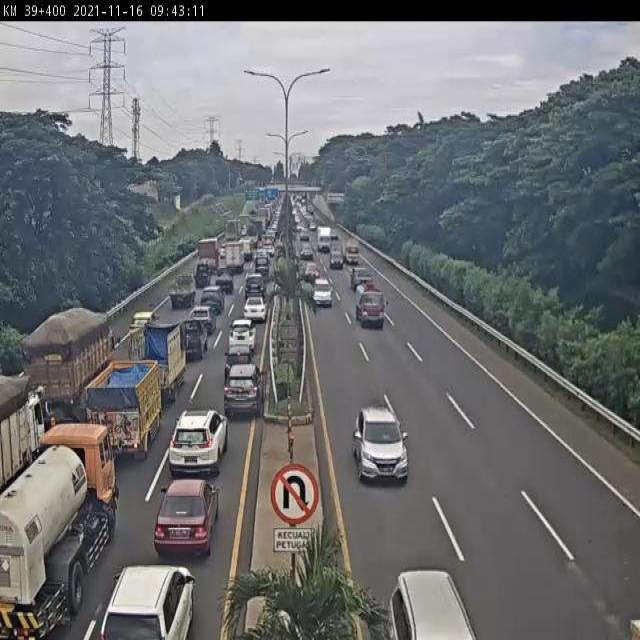car: (98, 565, 194, 640), (388, 569, 477, 640), (153, 478, 220, 558), (355, 408, 412, 484), (168, 409, 229, 476), (223, 365, 266, 420), (182, 319, 208, 361), (224, 347, 253, 381), (228, 318, 256, 351), (189, 306, 216, 334), (311, 277, 333, 307), (242, 296, 268, 321), (129, 312, 155, 337), (200, 287, 225, 312), (350, 265, 373, 291), (244, 274, 266, 298), (193, 264, 212, 289), (214, 268, 234, 291)
small truck: (88, 359, 163, 461), (127, 324, 186, 404), (355, 283, 385, 328), (168, 270, 197, 306)
truck-m-: (0, 421, 117, 640), (19, 309, 117, 419), (0, 378, 45, 498)
